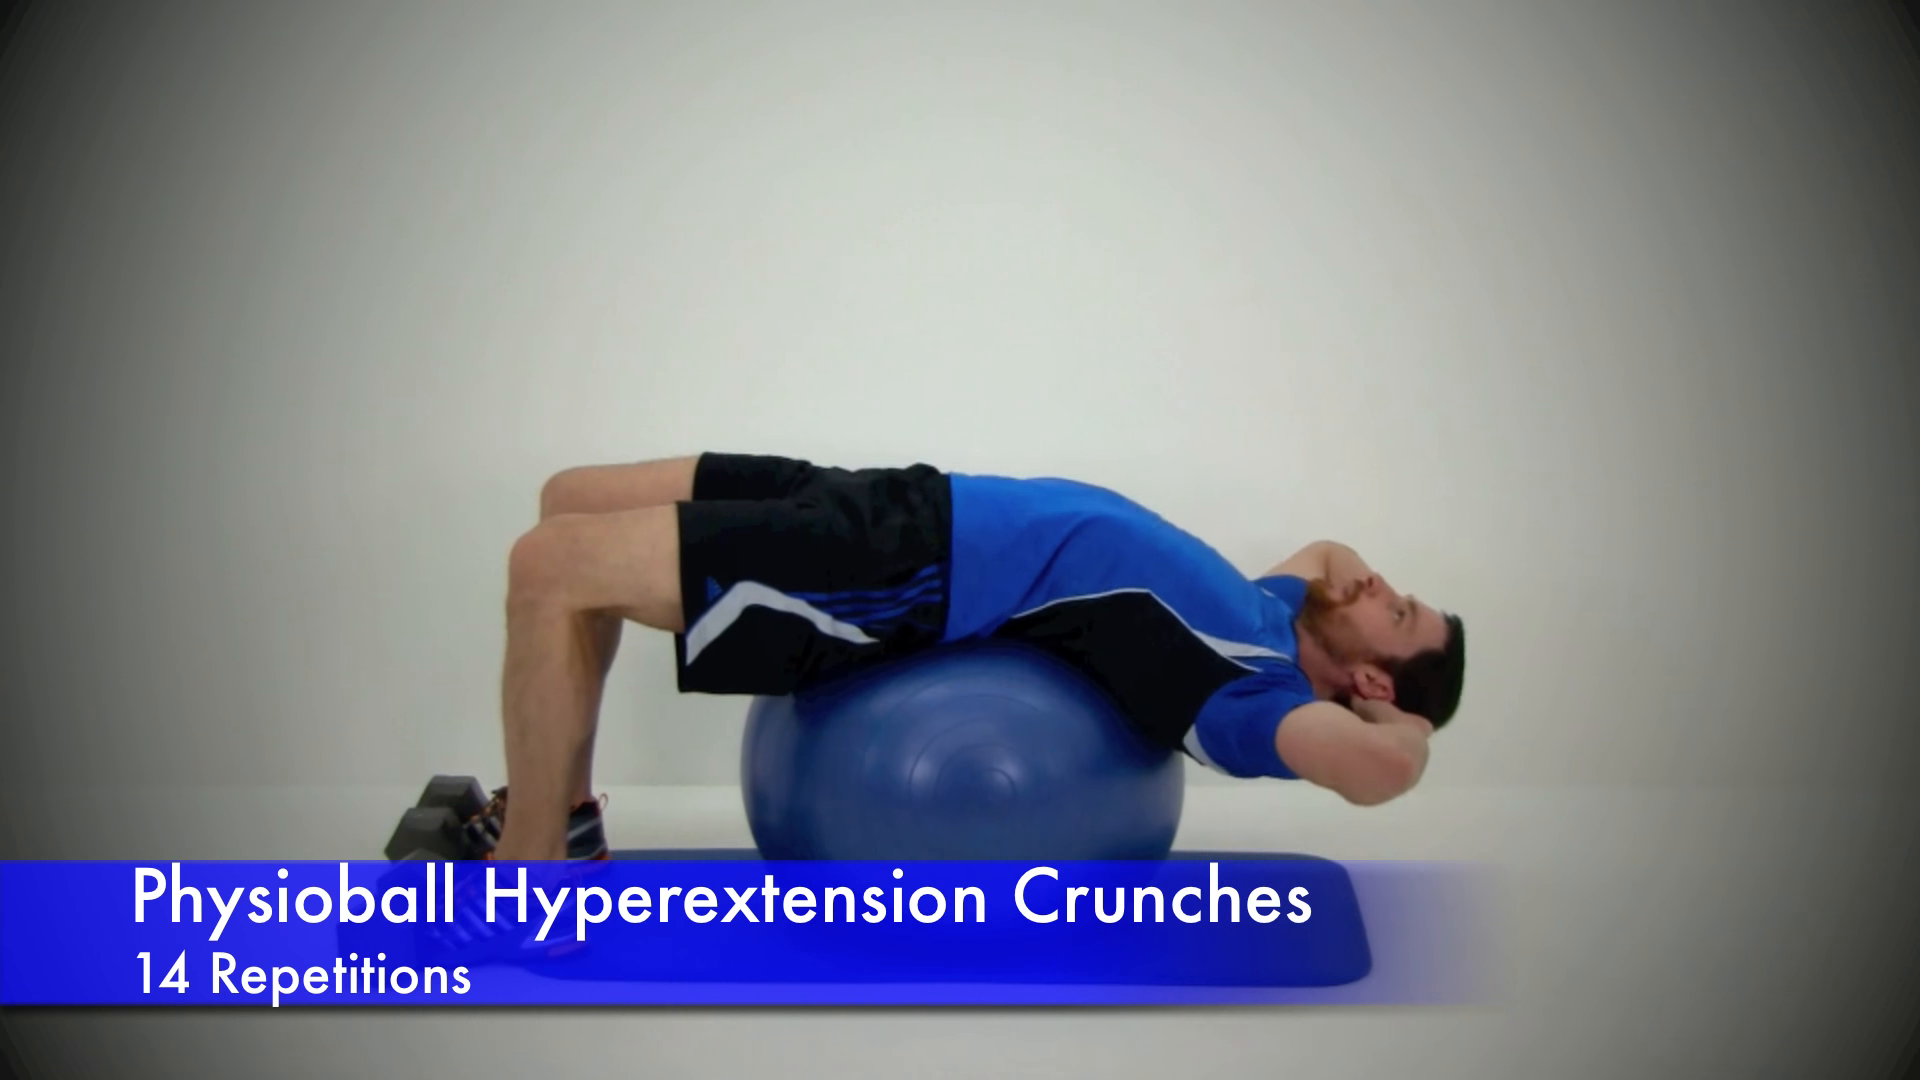yogaball: (733, 636, 1215, 957)
